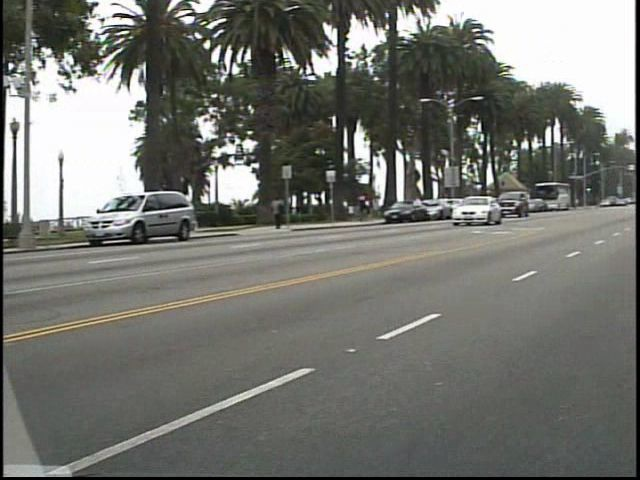person: (276, 193, 297, 232), (361, 188, 381, 223)
